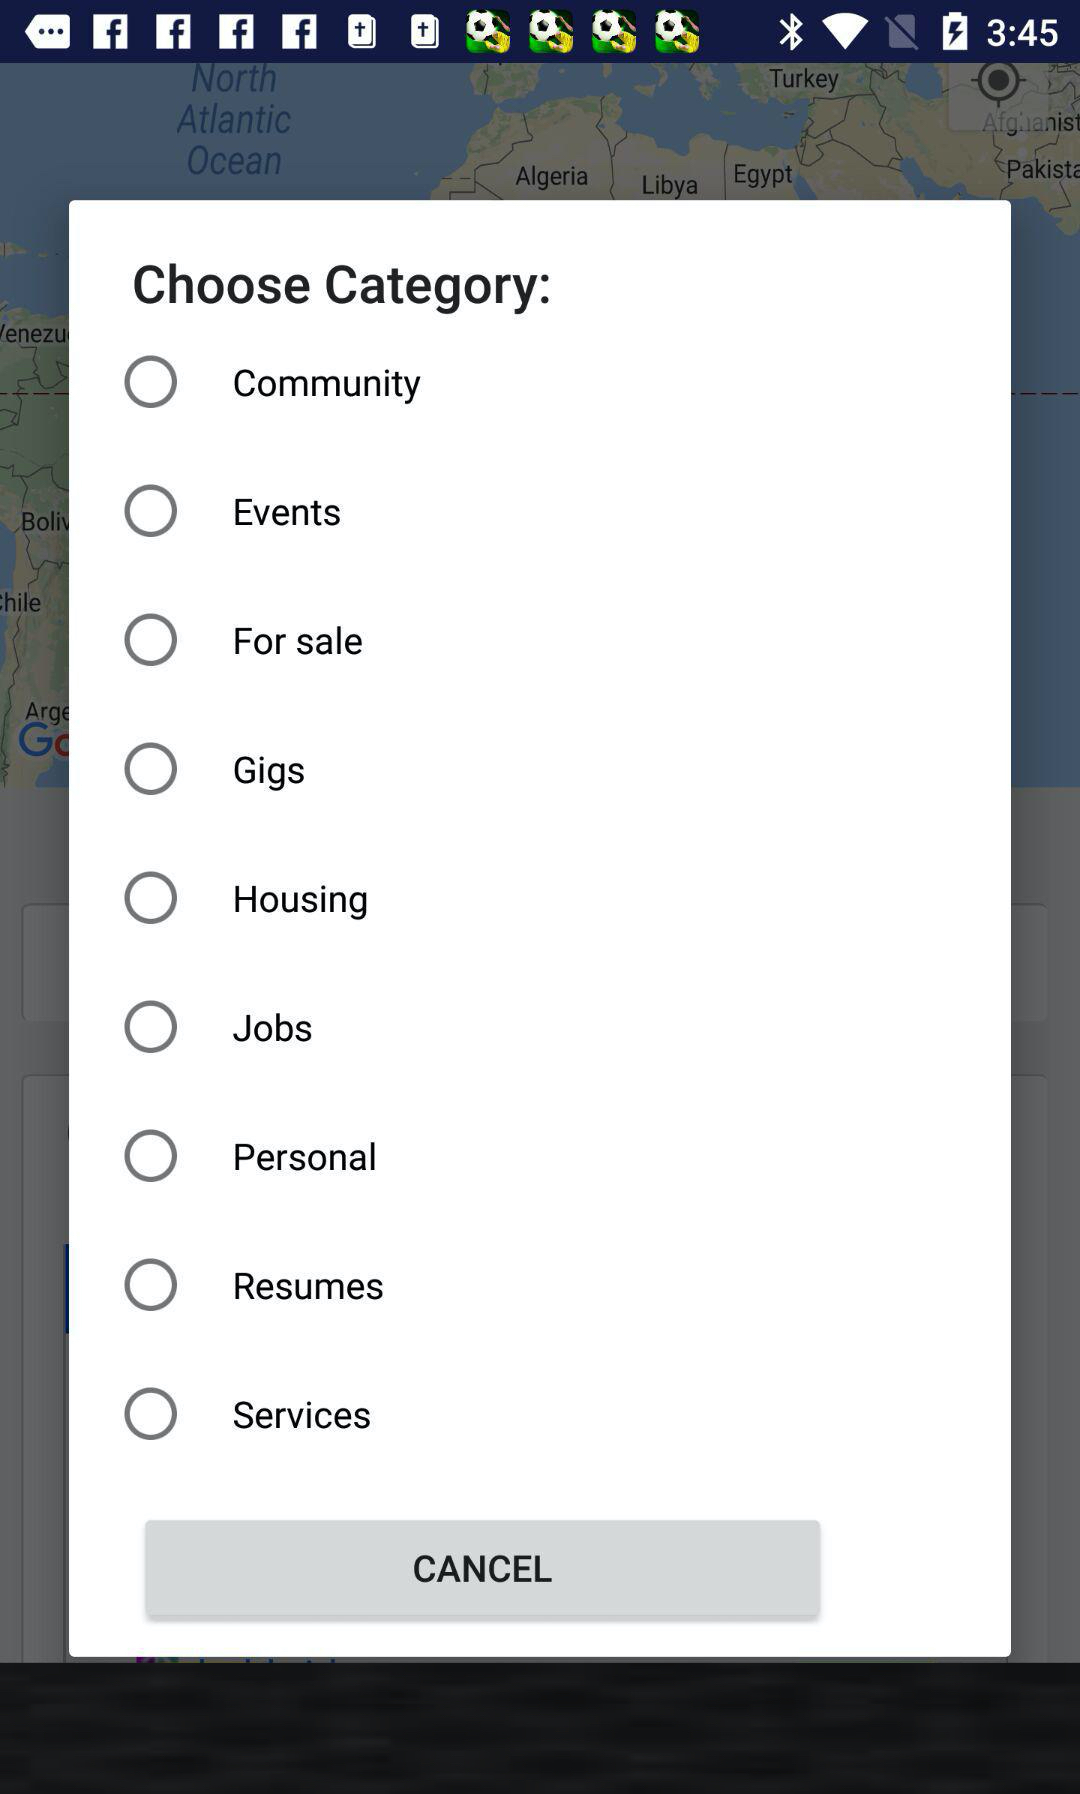CheckedTextView: (126, 356, 421, 410), (126, 1258, 384, 1312), (126, 1387, 372, 1442), (126, 1129, 375, 1181), (126, 871, 368, 925), (126, 614, 363, 668), (126, 484, 341, 538), (126, 1001, 313, 1055), (126, 743, 305, 796)
Modal: (69, 201, 1012, 1657)
Text: (135, 263, 550, 315), (234, 370, 421, 405), (234, 885, 368, 921), (234, 1142, 375, 1171), (234, 1272, 384, 1299), (234, 1401, 372, 1429), (234, 627, 363, 655), (234, 498, 341, 525), (234, 756, 305, 792), (233, 1014, 313, 1043)
TextButton: (146, 1520, 821, 1624)
UpperTaskBar: (1, 1, 1080, 64)
